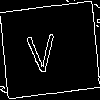V: (25, 24, 57, 74)
